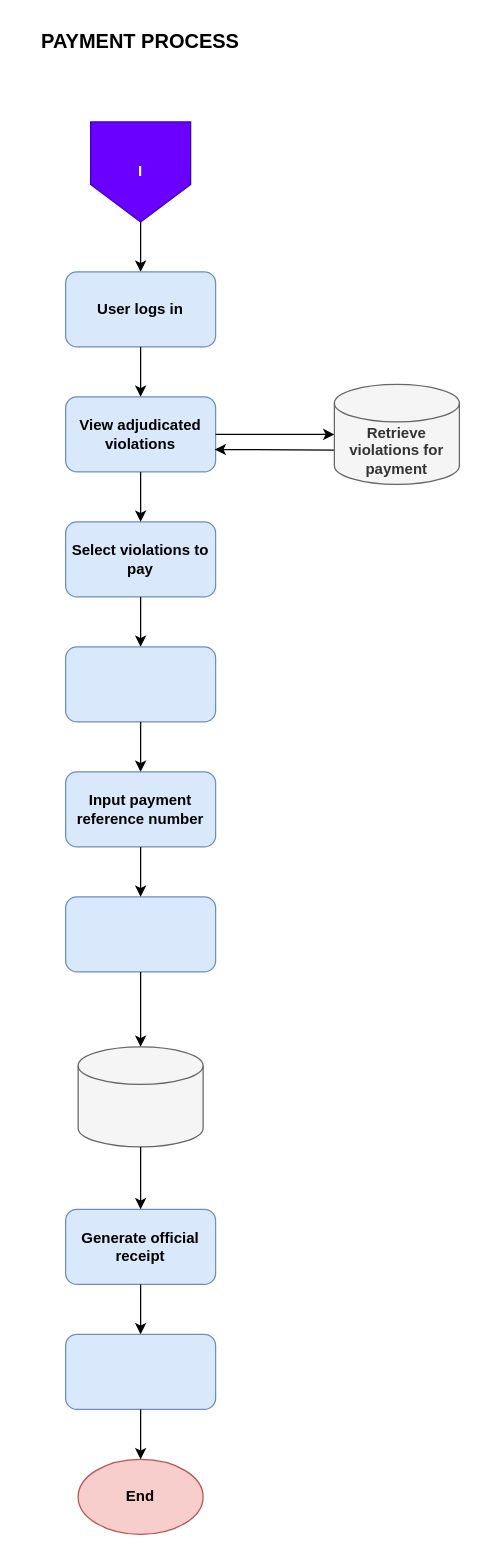
This 481x1556 diagram has some shape labels left out. Each missing label, with the centre of its shape:
"Send payment confirmation notification to user" belongs at point (140, 1371).
"System calculates total amount due" belongs at point (140, 684).
"System save record" belongs at point (140, 934).
"Update violation payment status" belongs at point (140, 1096).
